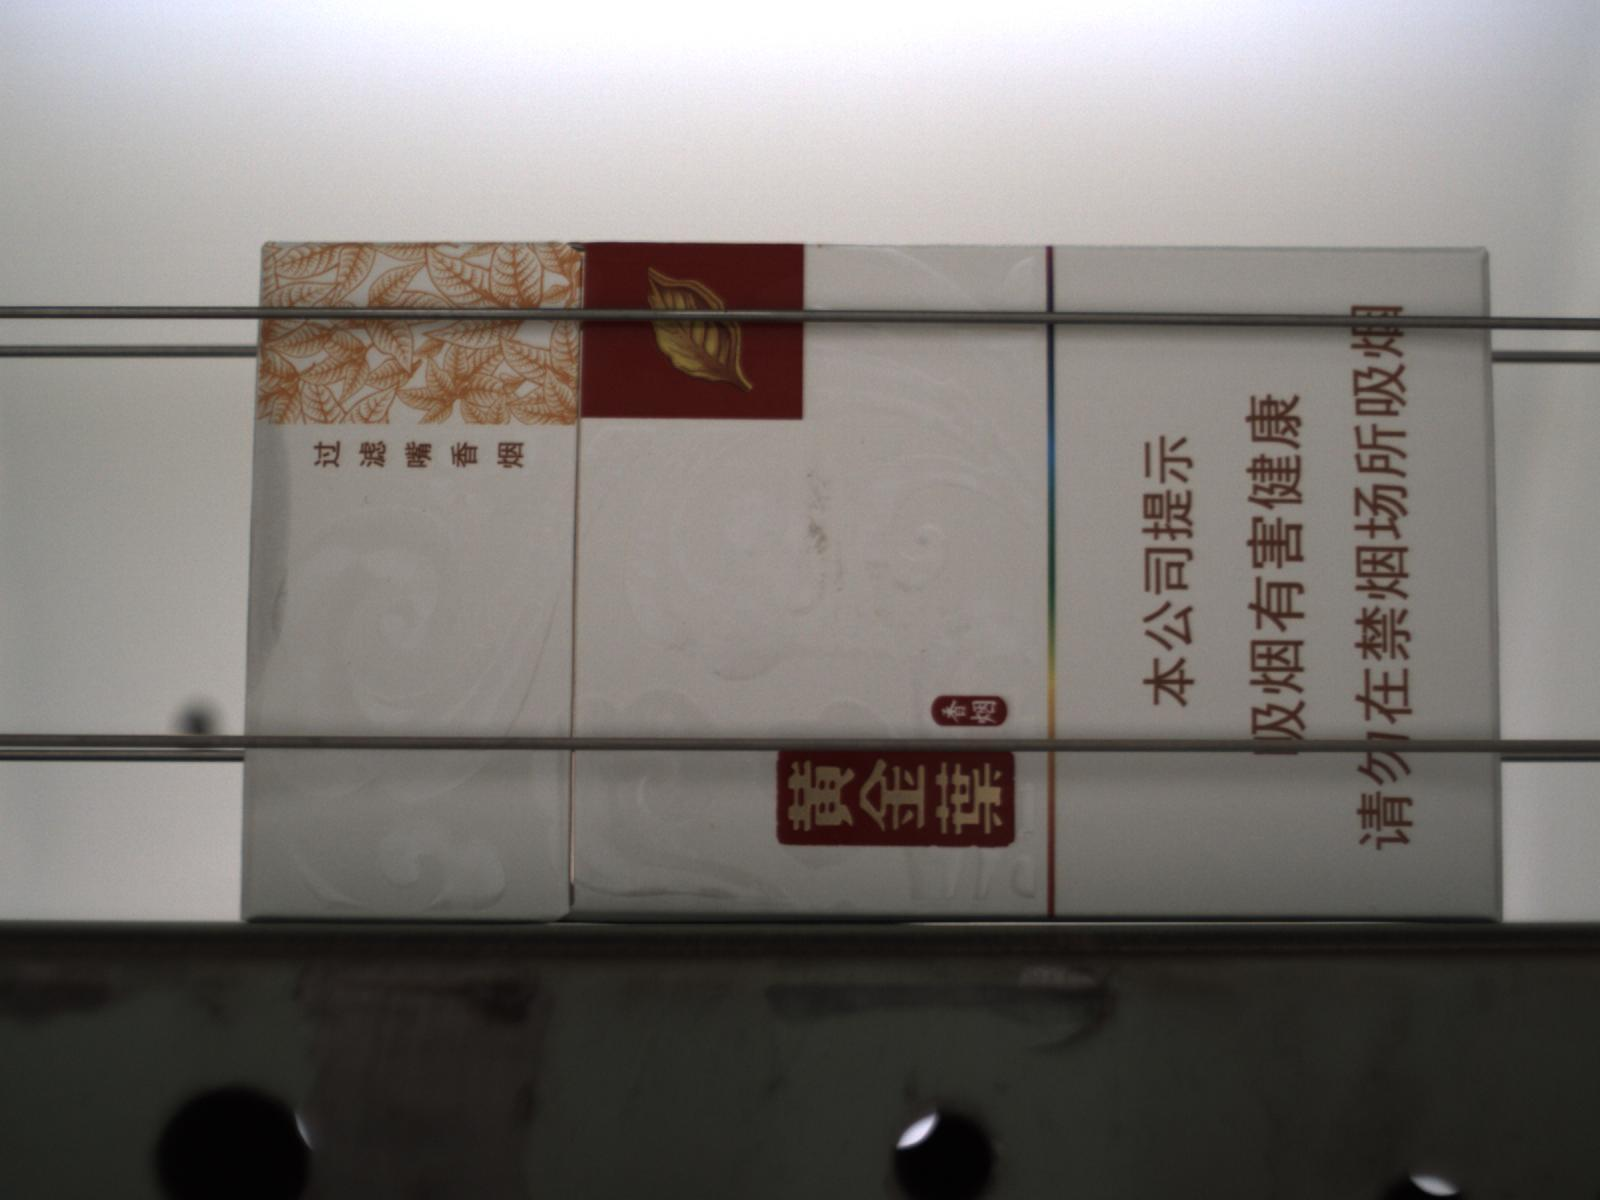areaOil: (242, 324, 294, 700)
dirtySpot: (362, 494, 370, 505), (857, 437, 867, 446), (918, 648, 929, 657)
gumDirt: (797, 461, 889, 620)
